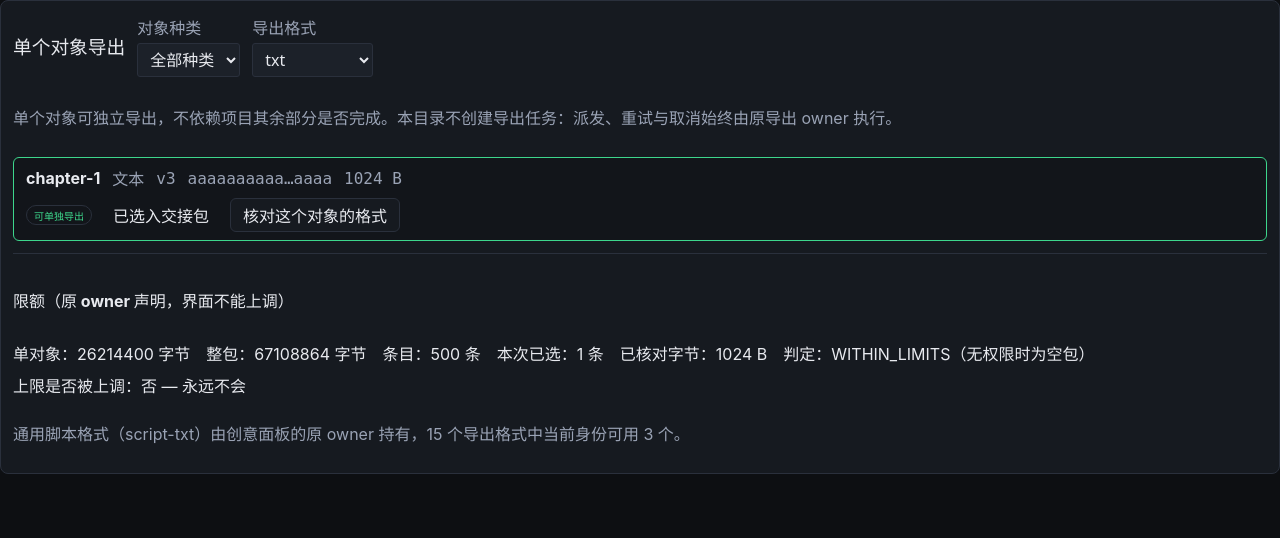
Test: single-item inspection feedback and filter recovery › clears a prior successful format verdict until the new format is explicitly checked
Click the button "核对这个对象的格式" at point(315, 215), box [230,198,400,232]
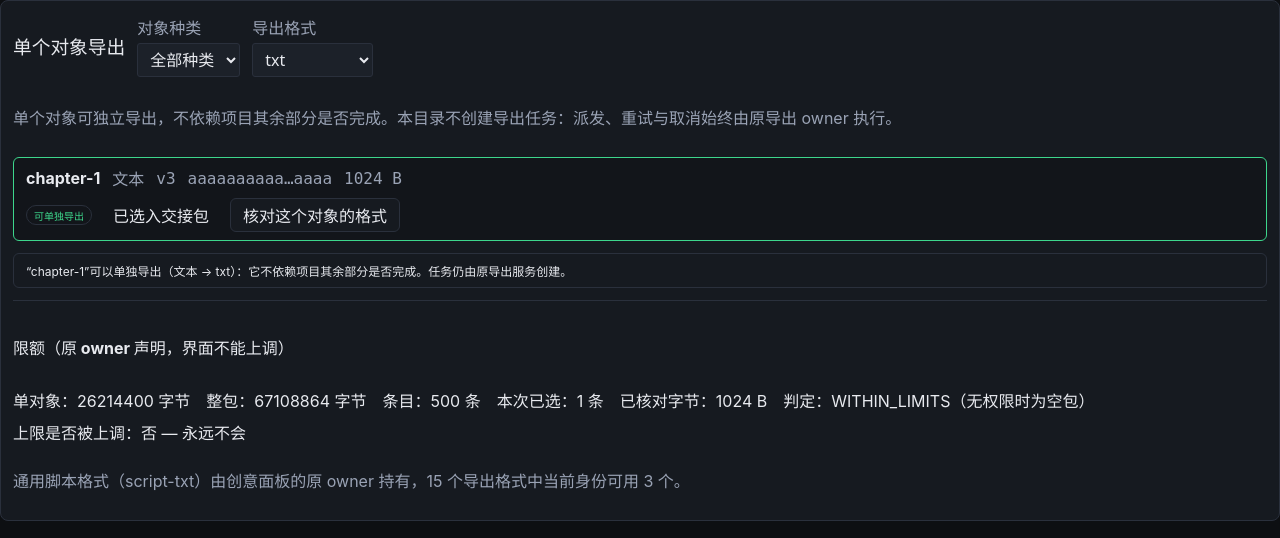
Now the text "“chapter-1”可以单独导出（文本 → txt）：它不依赖项目其余部分是否完成。任务仍由原导出服务创建。" is shown, box [13,253,1267,288]
Select "json" in the dropdown named "单对象导出格式" at point(313, 60), box [252,43,373,77]
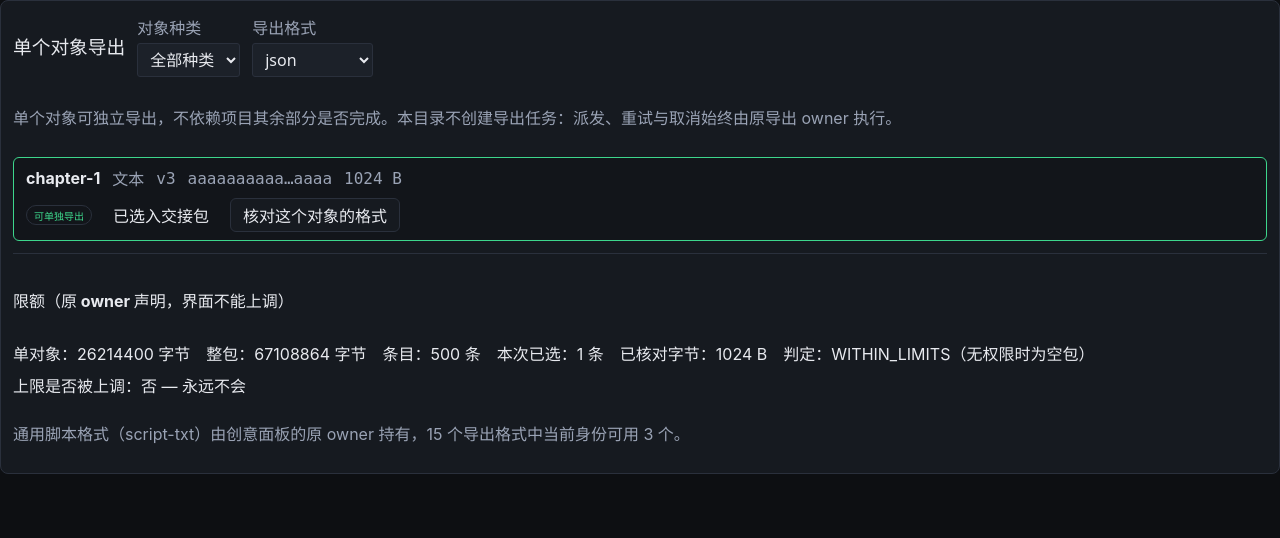
Now the text "可以单独导出（" is gone
Click the button "核对这个对象的格式" at point(315, 215), box [230,198,400,232]
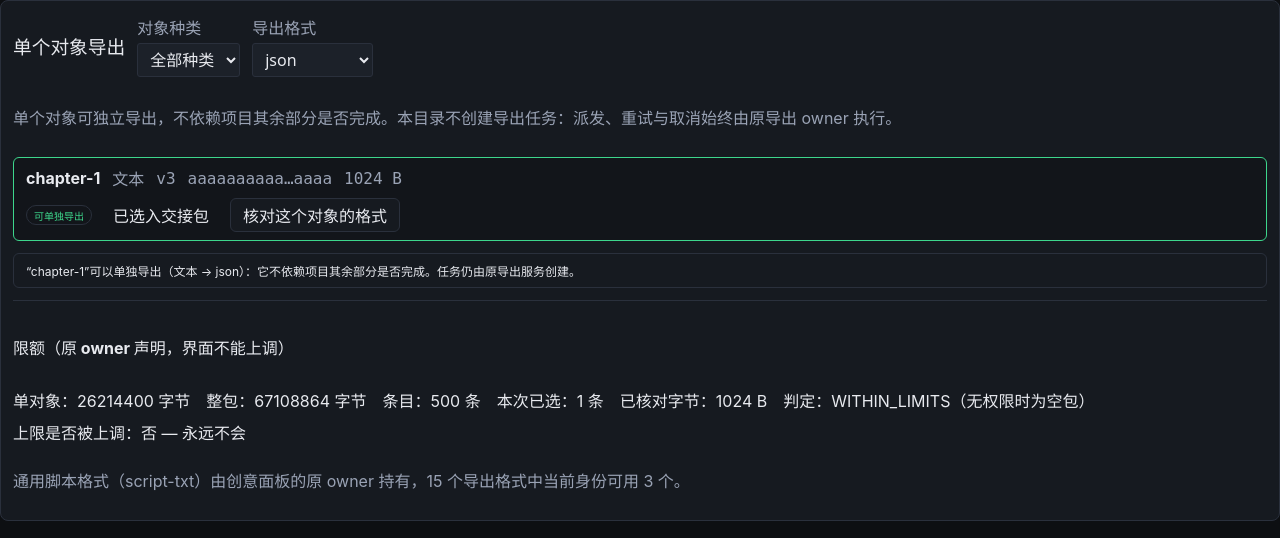
Now the text "“chapter-1”可以单独导出（文本 → json）：它不依赖项目其余部分是否完成。任务仍由原导出服务创建。" is shown, box [13,253,1267,288]
